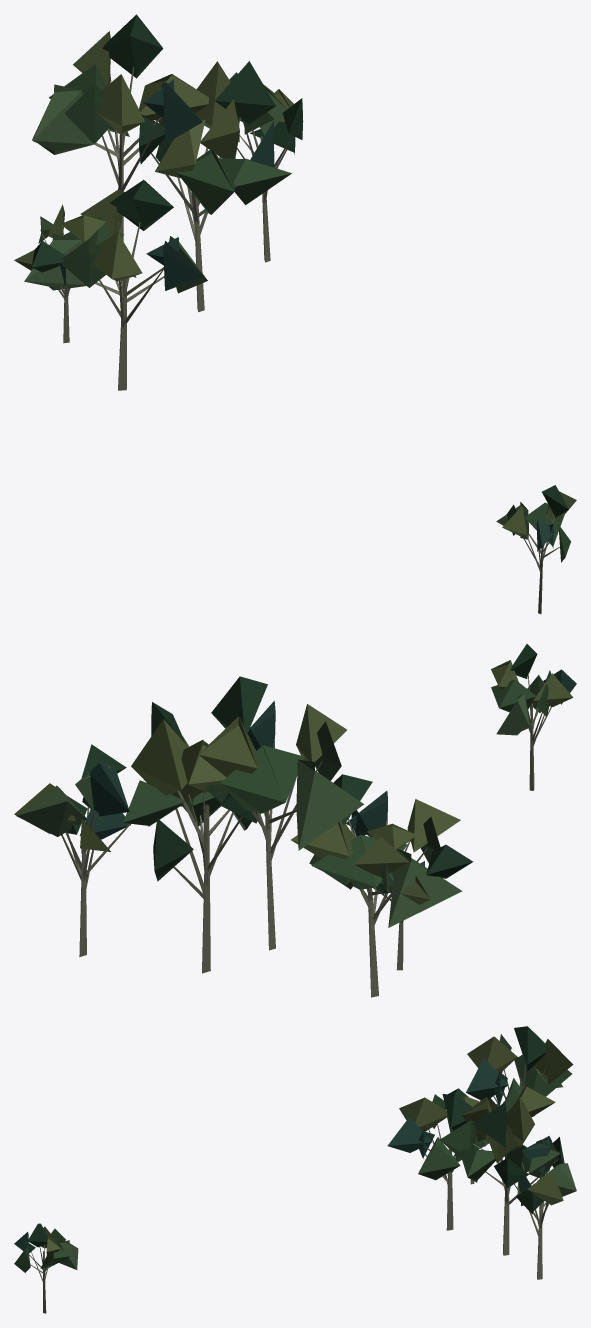
File: forest_22_20.dae
3 renders of one model, top to bottom at view 1: azimuth 30°, elevation 25°; view 2: azimuth 150°, elevation 25°; view 3: azimuth 270°, elevation 25°, orthographic. The views are drawn at different scales.
Visible parts, largest first — view 1: Node; view 2: Node; view 3: Node.
Part boxes in pixels (bbox=[...]): Node: bbox=[14, 14, 576, 614]; Node: bbox=[14, 644, 576, 997]; Node: bbox=[14, 1026, 576, 1313].
Bounding box in the file's own units: 5.47 × 10.83 × 5.59.
